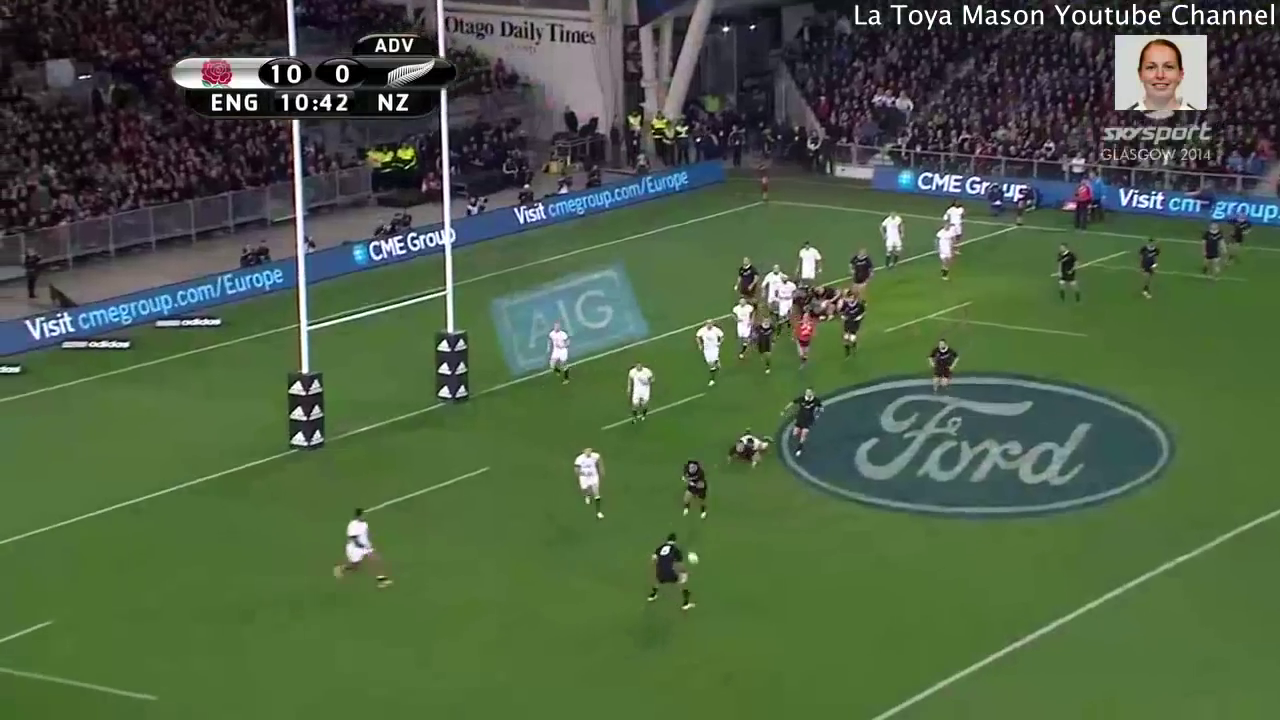ball: (683, 540, 705, 576)
player: (309, 500, 406, 606), (635, 530, 700, 620), (776, 383, 839, 468), (567, 441, 620, 528), (670, 448, 710, 536), (541, 312, 581, 396), (830, 286, 872, 366), (1048, 237, 1091, 315), (718, 416, 781, 468), (867, 205, 913, 276), (615, 356, 660, 428), (692, 312, 731, 394), (1193, 217, 1232, 296), (1129, 230, 1167, 310), (924, 332, 963, 406), (1221, 204, 1259, 273), (839, 243, 881, 299), (789, 302, 820, 372), (727, 294, 759, 361), (749, 311, 781, 376), (932, 217, 961, 285), (730, 252, 764, 309), (941, 199, 972, 257), (791, 232, 821, 289), (755, 258, 782, 310), (772, 271, 792, 326), (813, 281, 845, 306)
post: (273, 126, 485, 468)
ruck: (767, 271, 851, 323)
